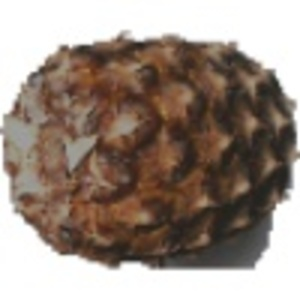abacaxi: (4, 33, 293, 267)
